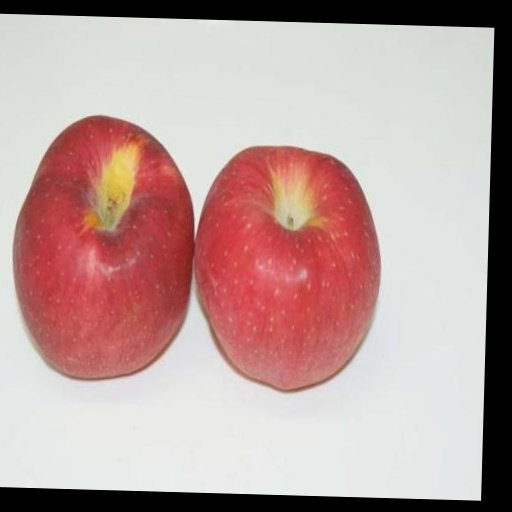fruit: (13, 116, 192, 378), (195, 147, 379, 389)
